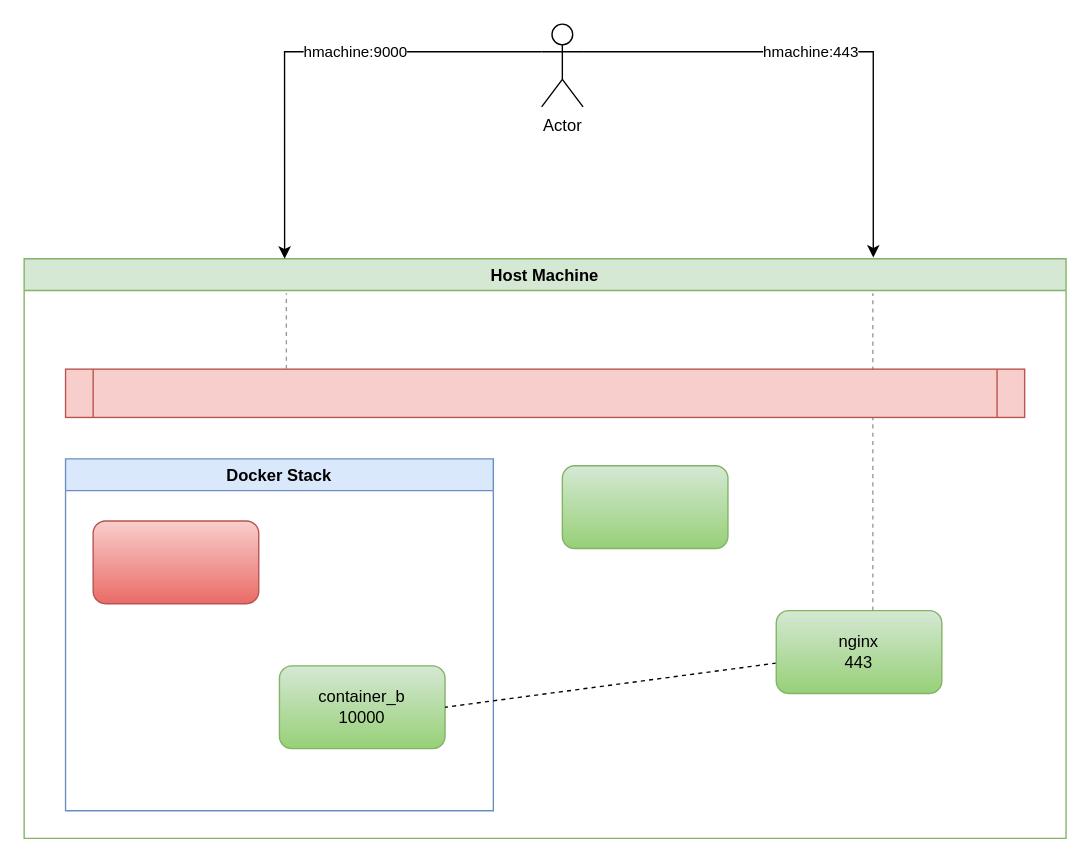
Image size: 1090x863. Some labels were removed from this diagram. The shapes that lost their labels are listed below. From the top down, each one's centre as x and y in pixels, then its label:
the point at 544,392: Host Firewall
the point at 644,506: ssh 22
the point at 175,562: container_a 9000
